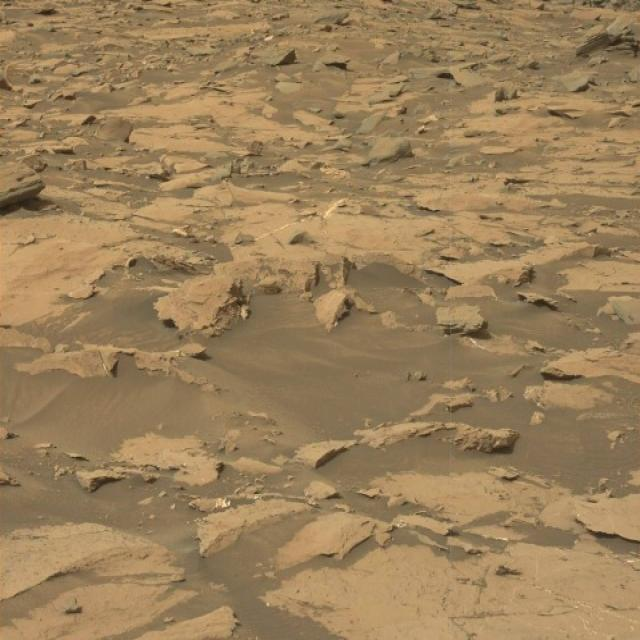rock: (0, 141, 49, 213)
